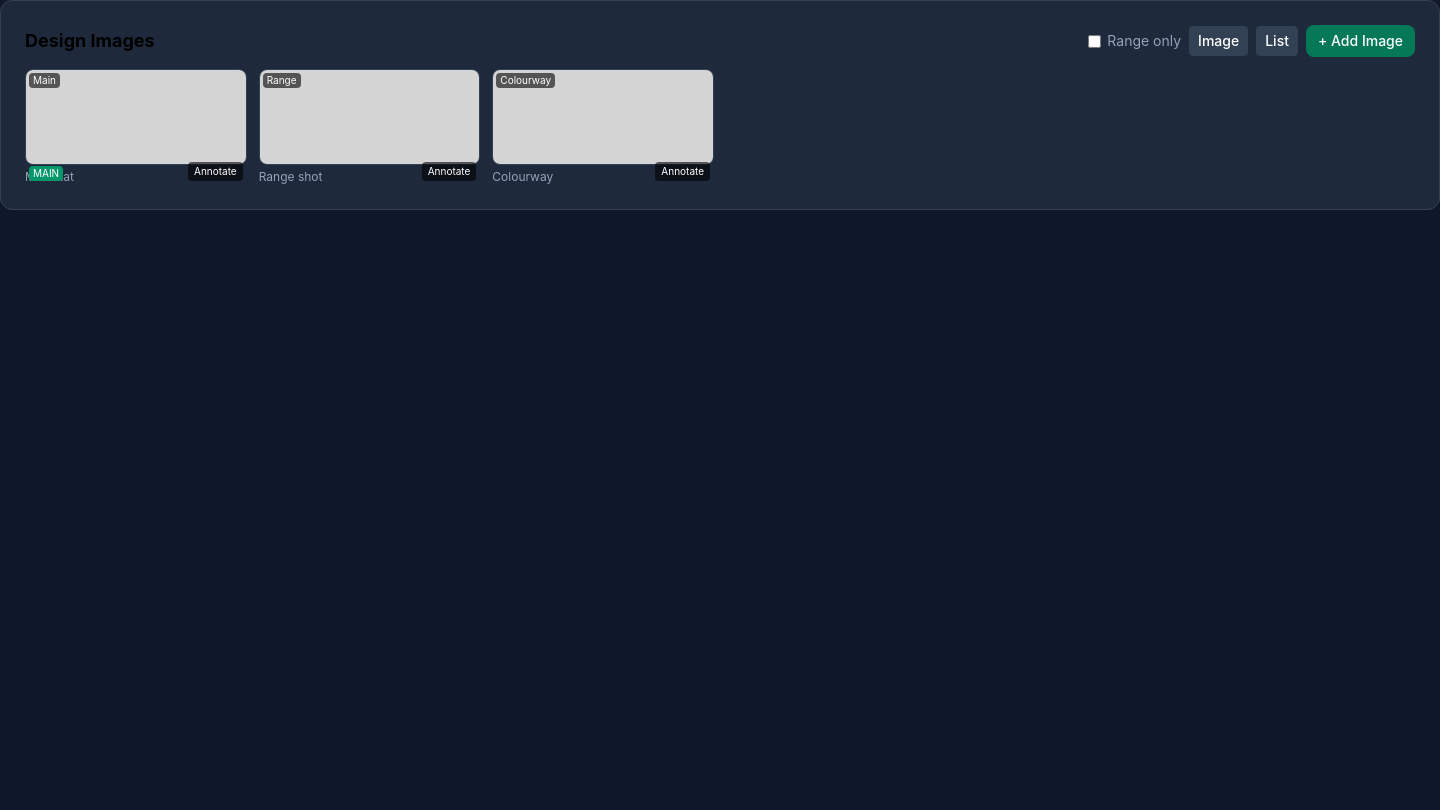
Test case: DesignSheetImages › opens an annotation dialog for a design image tile
The width and height of the screenshot is (1440, 810).
Click the button with test id "design-images-annotate-img-1": (215,172) [188, 162, 243, 181]
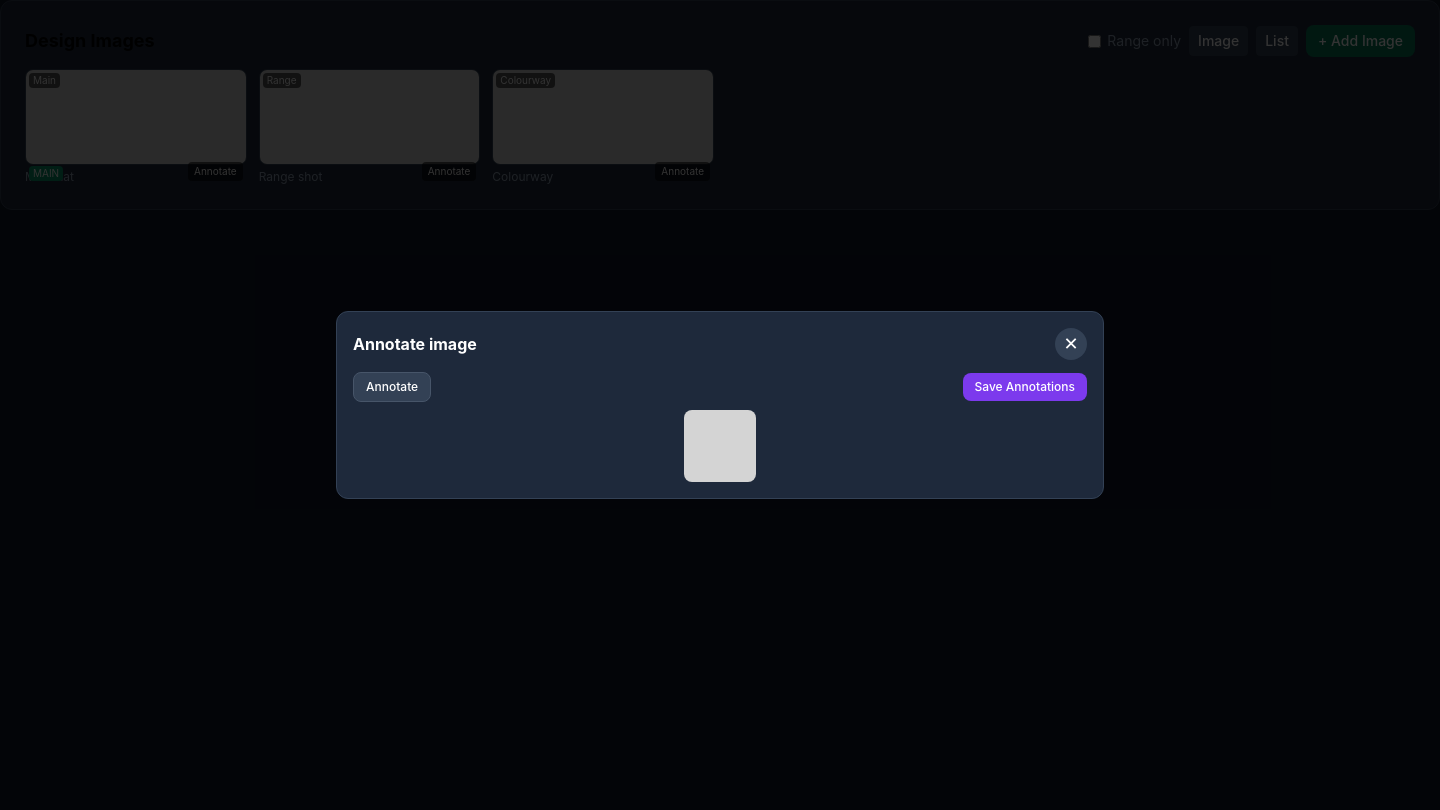
Result: the dialog "Annotate image" is shown
